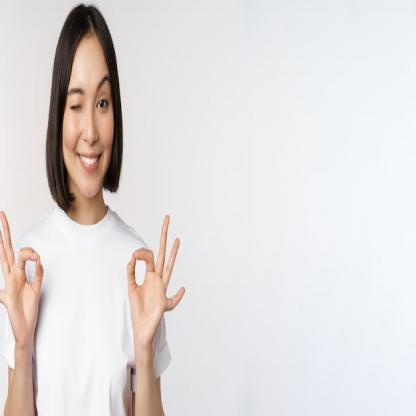ok: (124, 208, 186, 353)
